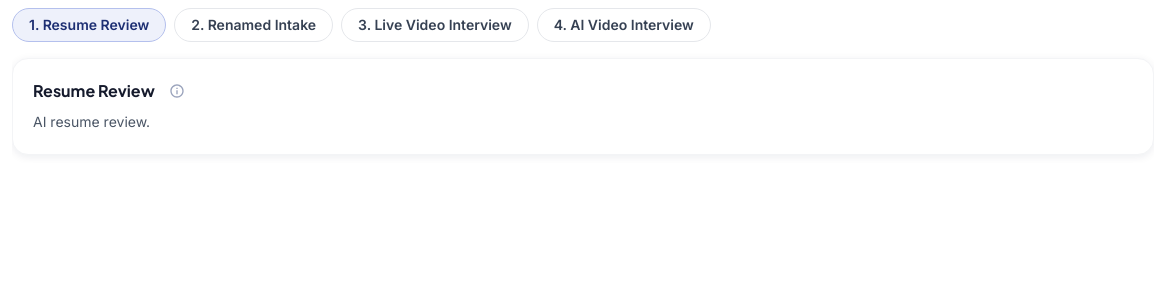
Test: ViewInterviewRounds › lists a round's own questions numbered, with its duration and no variant
The width and height of the screenshot is (1164, 303).
Click the button "3. Live Video Interview" at (435, 25), box [341,8,529,42]
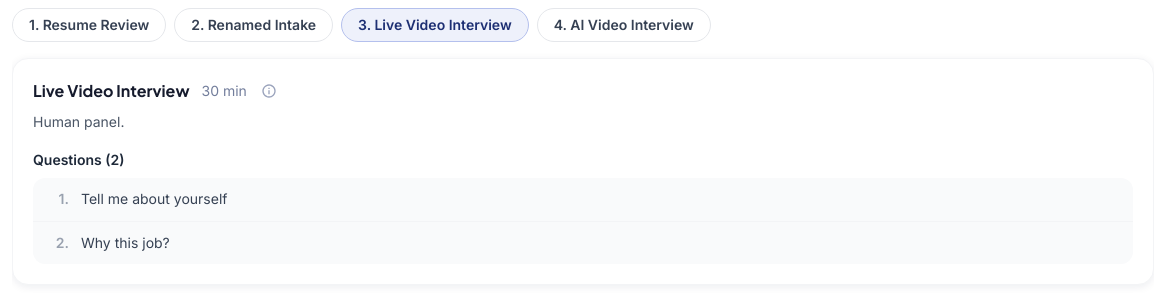
Result: the text "Questions (2)" is shown at [33,151,124,168]
Result: the text "Tell me about yourself" is shown at [81,190,228,207]
Result: the text "Why this job?" is shown at [81,234,170,250]
